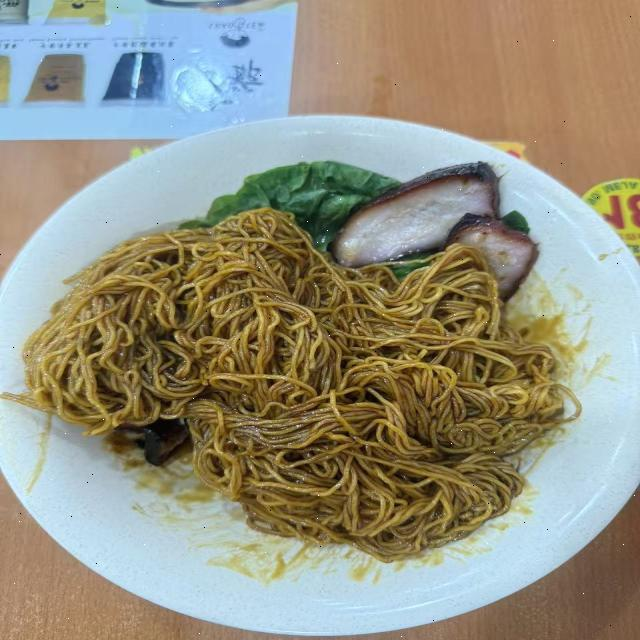Wantan Mee: (10, 132, 603, 594)
